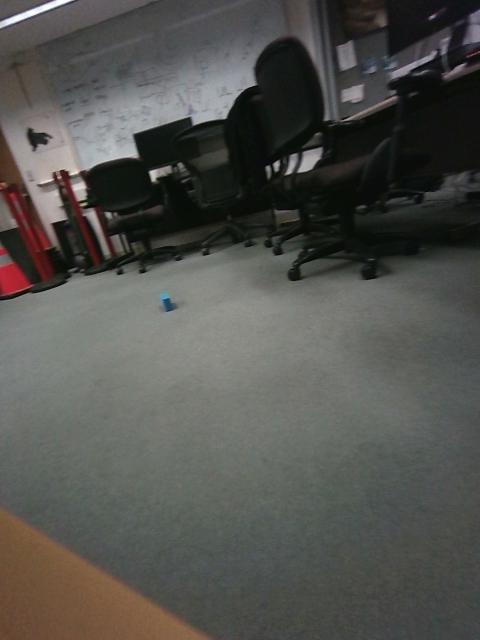block: (191, 351, 253, 399)
